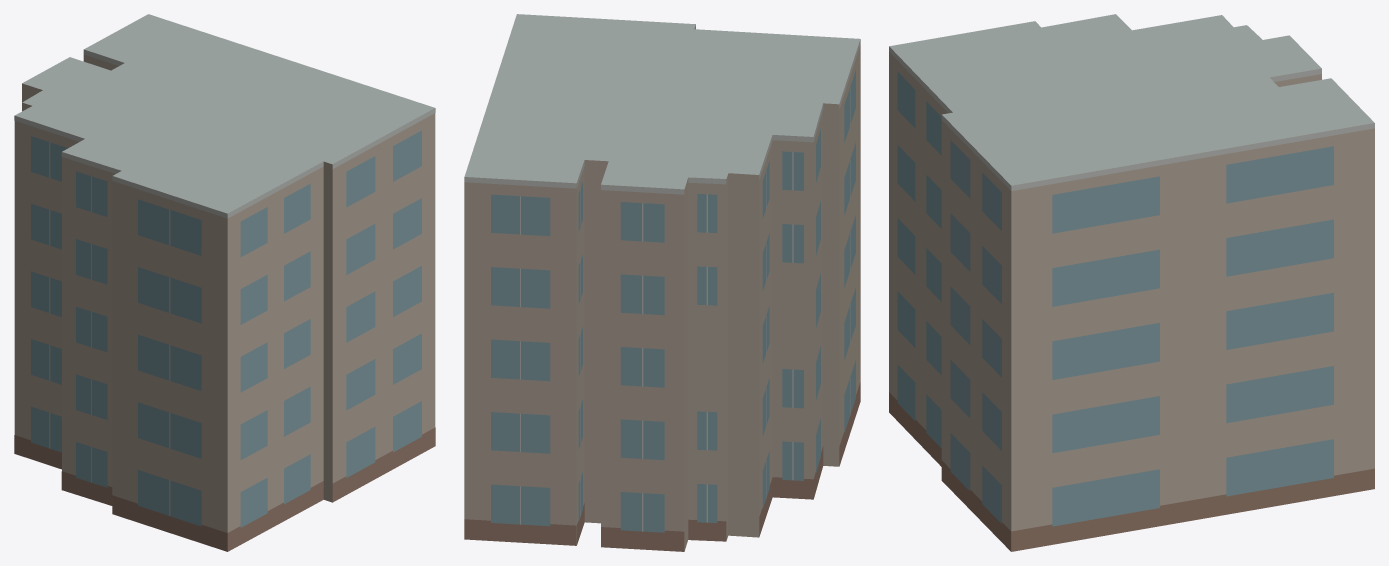
Rendered from survey-upis-32718200.glb.
The picture shows the model from 3 angles, left to right: view 1: azimuth 30°, elevation 25°; view 2: azimuth 150°, elevation 25°; view 3: azimuth 270°, elevation 25°; orthographic projection. The views are drawn at different scales.
Visible parts, largest first — view 1: survey-upis-32718200.tmp; view 2: survey-upis-32718200.tmp; view 3: survey-upis-32718200.tmp.
Boxes of the visible parts, x1,y1,x2,y2 form: survey-upis-32718200.tmp: [14, 14, 435, 551]; survey-upis-32718200.tmp: [464, 14, 860, 551]; survey-upis-32718200.tmp: [889, 14, 1374, 551].
Bounding box in the file's own units: 16.71 × 16.6 × 19.97.
